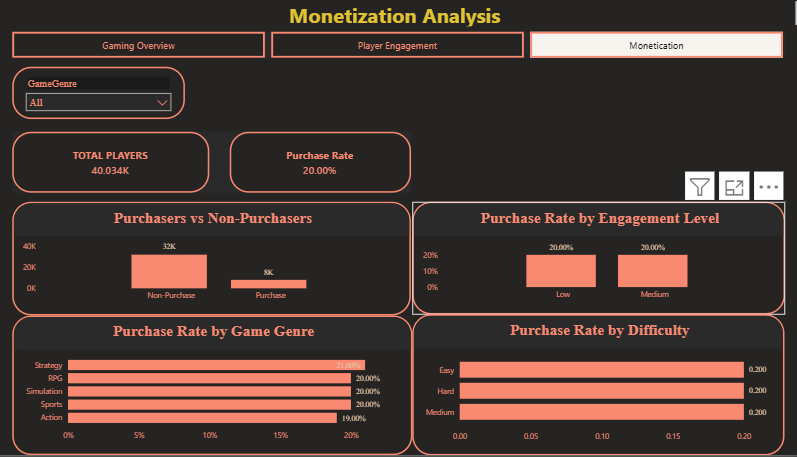

The page's visual inventory and layout, read from the dashboard file:
{"tool":"powerbi","page":{"name":"Monetication","canvas":[1280,720],"ordinal":2},"visuals":[{"type":"cardVisual","fields":{"Data":["player_statistics_cleaned.Total Players"]},"box":[33.5,210.8,310.7,96.4],"z":0,"group":"g1"},{"type":"clusteredColumnChart","title":"Purchasers vs Non-Purchasers","fields":{"Category":["player_statistics_cleaned.Purchase Status"],"Y":["player_statistics_cleaned.TOTAL PLAYERS"]},"box":[33.5,321,628.2,179.2],"z":0},{"type":"clusteredBarChart","title":"Purchase Rate by Game Genre","fields":{"Category":["player_statistics_cleaned.GameGenre"],"Y":["player_statistics_cleaned.Purchase Rate"]},"box":[32.5,500,630,220],"z":1000},{"type":"clusteredColumnChart","title":"Purchase Rate by Engagement Level","fields":{"Y":["player_statistics_cleaned.Purchase Rate"],"Category":["player_statistics_cleaned.PlaytimeCategory"]},"box":[663.6,321,586.8,177.2],"z":2000},{"type":"clusteredBarChart","title":"Purchase Rate by Difficulty","fields":{"Category":["player_statistics_cleaned.GameDifficulty"],"Y":["player_statistics_cleaned.Purchase Rate"]},"box":[663.8,498.4,586.6,222.7],"z":3000},{"type":"slicer","fields":{"Values":["player_statistics_cleaned.GameGenre"]},"box":[33.5,108.3,271.8,82.7],"z":4000},{"type":"cardVisual","fields":{"Data":["player_statistics_cleaned.Purchase Rate"]},"box":[375.7,210.7,286,96.4],"z":4000,"group":"g1"},{"type":"textbox","box":[0,0,1280,50],"z":5000},{"type":"group","id":"g1","title":"Group 1","box":[33.5,210.7,628.2,96.5],"z":6000},{"type":"pageNavigator","box":[33.5,53.2,1217,41.4],"z":7000}]}

Visuals, with their boxes in screenshot pixels (x1, y1, x2, y2), scaled from the page's 1280x720 canvas onto the 797x457 screenshot:
cardVisual - player_statistics_cleaned.Total Players: [21, 134, 214, 195]
"Purchasers vs Non-Purchasers" clusteredColumnChart: [21, 204, 412, 317]
"Purchase Rate by Game Genre" clusteredBarChart: [20, 317, 413, 456]
"Purchase Rate by Engagement Level" clusteredColumnChart: [413, 204, 779, 316]
"Purchase Rate by Difficulty" clusteredBarChart: [413, 316, 779, 456]
slicer - player_statistics_cleaned.GameGenre: [21, 69, 190, 121]
cardVisual - player_statistics_cleaned.Purchase Rate: [234, 134, 412, 195]
textbox: [0, 0, 796, 32]
"Group 1" group: [21, 134, 412, 195]
pageNavigator: [21, 34, 779, 60]
